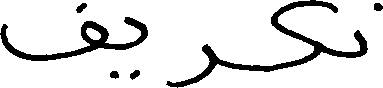ر: (163, 42, 215, 87)
ف: (0, 1, 108, 62)
ك: (268, 0, 338, 72)
ن: (350, 0, 381, 58)
ي: (107, 15, 149, 81)
